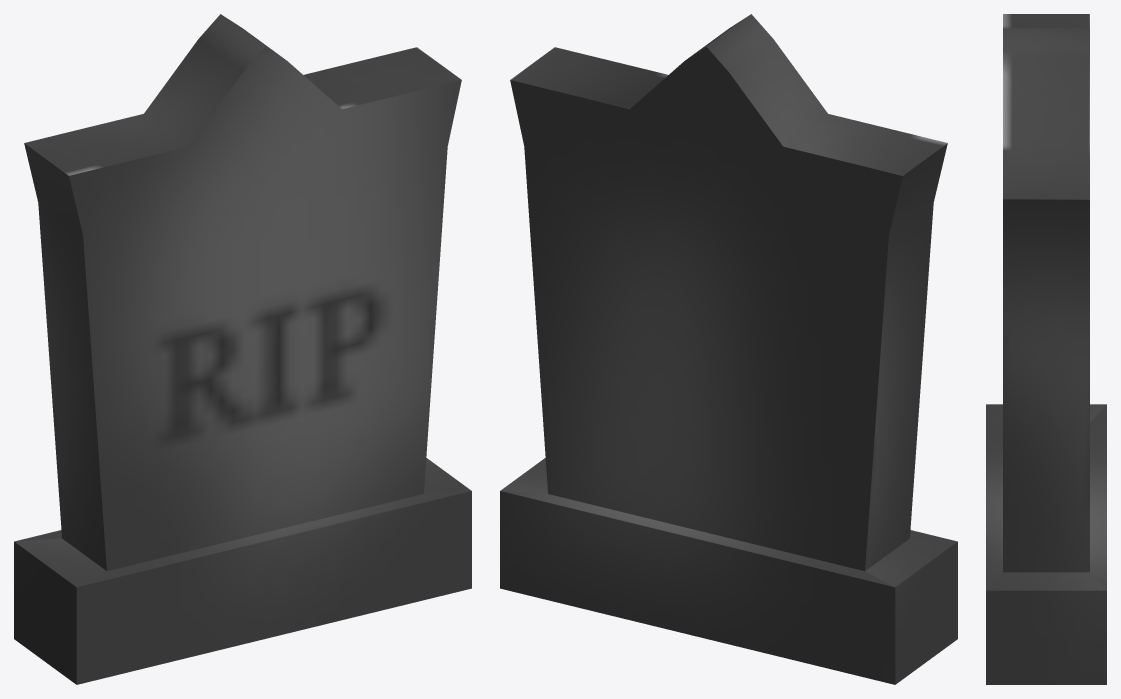
File: Tumulo_6.glb
3 renders of one model, left to right at view 1: azimuth 30°, elevation 25°; view 2: azimuth 150°, elevation 25°; view 3: azimuth 270°, elevation 25°, orthographic. The views are drawn at different scales.
Visible parts, largest first — view 1: Tumulo.6; view 2: Tumulo.6; view 3: Tumulo.6.
Part boxes in pixels (box(x1,y1,x2,y2)): Tumulo.6: box(14, 14, 471, 684); Tumulo.6: box(500, 14, 957, 684); Tumulo.6: box(986, 14, 1106, 684).
Size of the model in its own units: 0.431 by 0.608 by 0.1183.
Materials: 1 (1 with a texture image).
